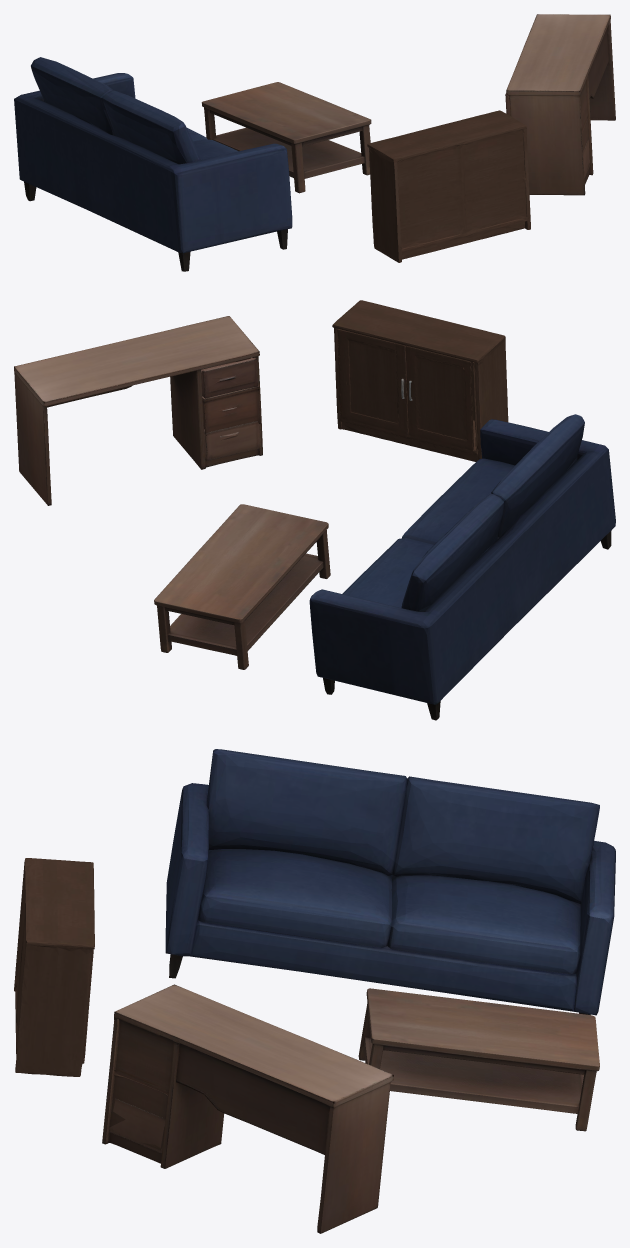
Rendered from figure6-2.glb.
The picture shows the model from 3 angles, top to bottom: view 1: azimuth 30°, elevation 25°; view 2: azimuth 150°, elevation 25°; view 3: azimuth 270°, elevation 25°; orthographic projection. The views are drawn at different scales.
Parts seen in each view (by area): view 1: obj_1_part_0, obj_0_part_0, obj_2_part_0, obj_3_part_0; view 2: obj_1_part_0, obj_3_part_0, obj_2_part_0, obj_0_part_0, obj_0_part_1, obj_0_part_2, obj_2_part_2, obj_2_part_3, obj_2_part_1; view 3: obj_1_part_0, obj_2_part_0, obj_3_part_0, obj_0_part_0, obj_2_part_1.
Part boxes in pixels (x1,y1,x2,y2): obj_1_part_0: (14,57,292,271); obj_0_part_0: (367,110,530,262); obj_2_part_0: (506,14,615,195); obj_3_part_0: (201,82,371,193); obj_1_part_0: (309,414,615,720); obj_3_part_0: (154,504,330,669); obj_2_part_0: (14,316,262,505); obj_0_part_0: (332,300,508,461); obj_0_part_1: (337,329,408,437); obj_0_part_2: (406,346,473,454); obj_2_part_2: (202,385,260,435); obj_2_part_3: (201,357,257,398); obj_2_part_1: (203,421,260,460); obj_1_part_0: (165,749,615,1015); obj_2_part_0: (102,984,393,1233); obj_3_part_0: (358,988,599,1131); obj_0_part_0: (14,858,94,1076); obj_2_part_1: (109,1098,165,1153).
Size of the model in its own units: 1.56 by 0.5341 by 1.26.
9 materials, 9 textured.
